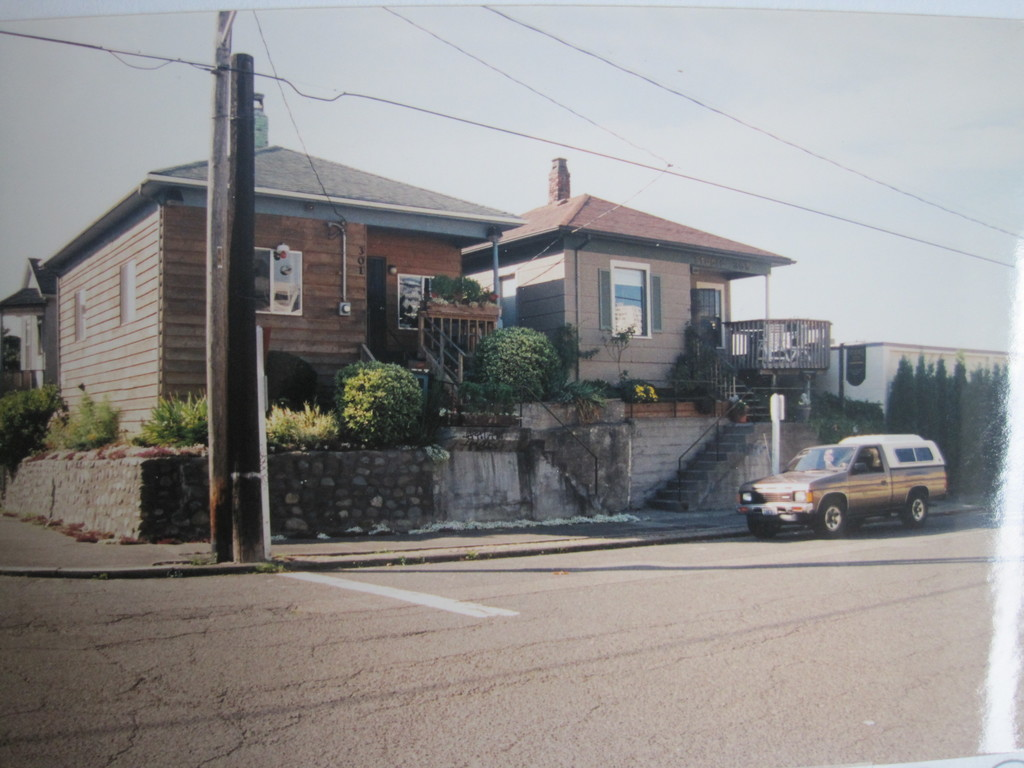Car: (739, 427, 954, 543)
